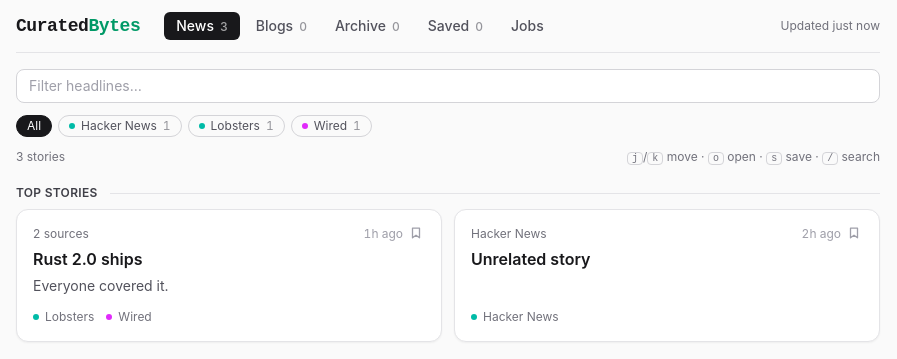
Test case: shows top stories as cards and leaves them out of the list
Check: the text "Everyone covered it." is shown, box [33,277,169,294]
Check: the text "2 sources" is shown, box [33,226,89,242]
Filtering hides the cards and searches every story.
Type "rust" into the search field.
click(448, 86); type("rust")  # box [16,69,880,103]
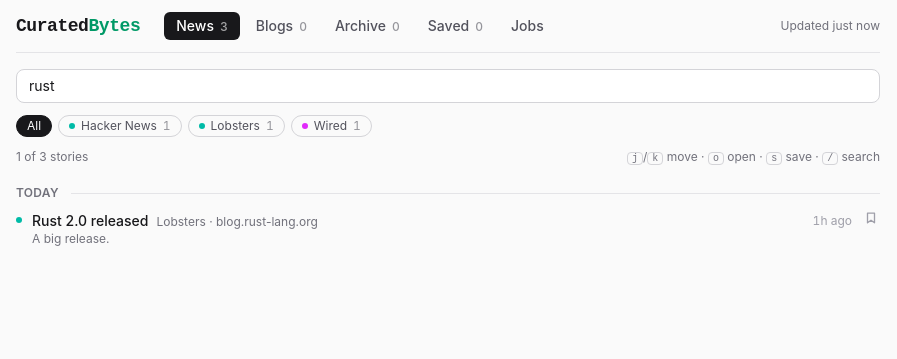
Check: the heading "Top stories" is gone
